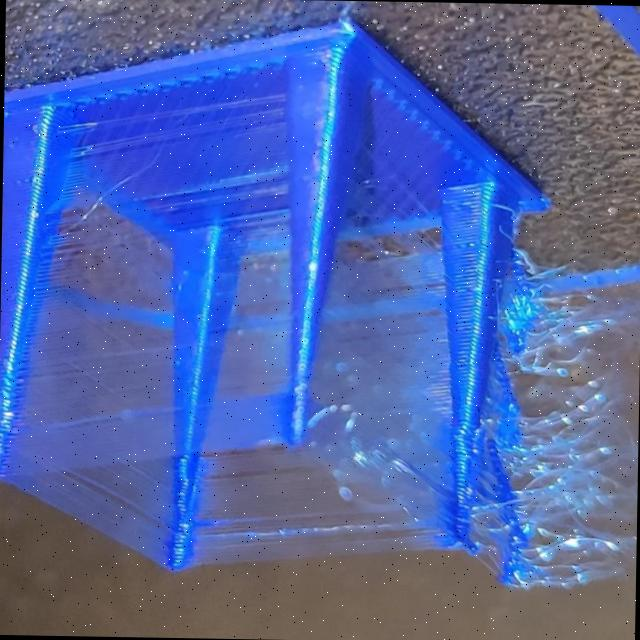stringing: (32, 264, 282, 476), (506, 261, 610, 575), (311, 316, 454, 504)
